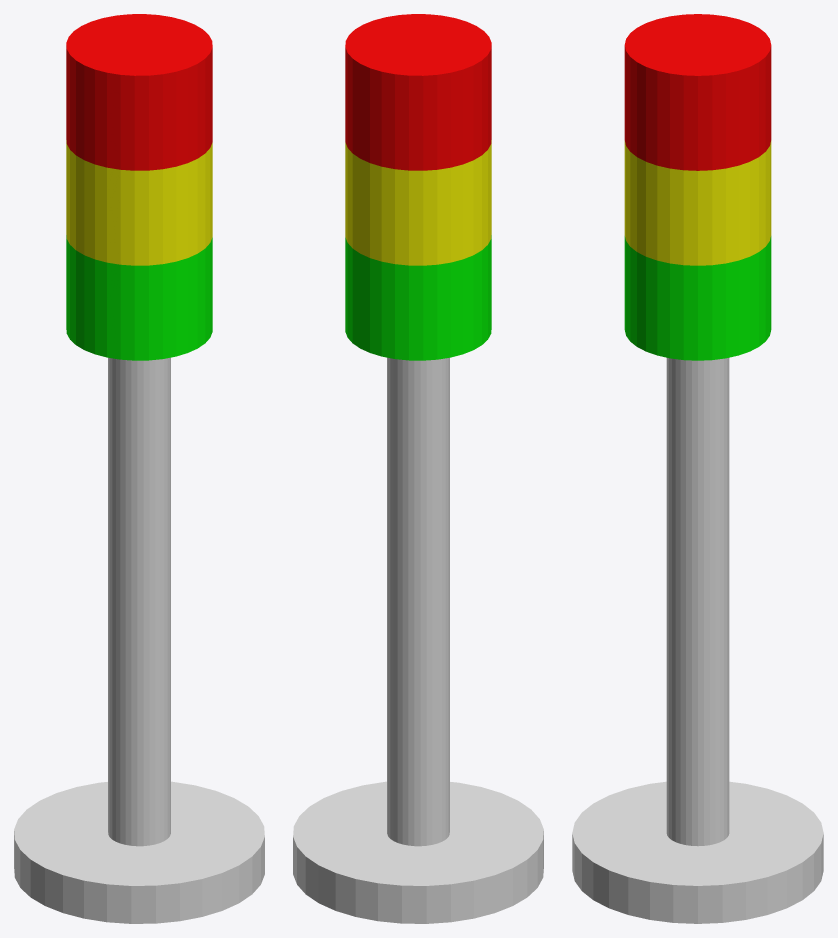
Rendered from tower_lamp.glb.
The picture shows the model from 3 angles, left to right: view 1: azimuth 30°, elevation 25°; view 2: azimuth 150°, elevation 25°; view 3: azimuth 270°, elevation 25°; orthographic projection.
Visible parts, largest first — view 1: Pole, Base, Red_Light, Yellow_Light, Green_Light; view 2: Pole, Base, Red_Light, Yellow_Light, Green_Light; view 3: Pole, Base, Red_Light, Green_Light, Yellow_Light.
Boxes of the visible parts, bbox=[...] form: Pole: bbox=[108, 357, 170, 846]; Base: bbox=[14, 781, 264, 923]; Red_Light: bbox=[66, 14, 212, 170]; Yellow_Light: bbox=[66, 140, 212, 265]; Green_Light: bbox=[66, 235, 212, 360]; Pole: bbox=[387, 357, 449, 846]; Base: bbox=[293, 781, 543, 923]; Red_Light: bbox=[345, 14, 491, 170]; Yellow_Light: bbox=[345, 140, 491, 265]; Green_Light: bbox=[345, 235, 491, 360]; Pole: bbox=[666, 358, 729, 846]; Base: bbox=[572, 781, 823, 923]; Red_Light: bbox=[624, 14, 771, 170]; Green_Light: bbox=[624, 236, 771, 360]; Yellow_Light: bbox=[624, 141, 771, 265].
Size of the model in its own units: 0.24 by 0.87 by 0.24.
